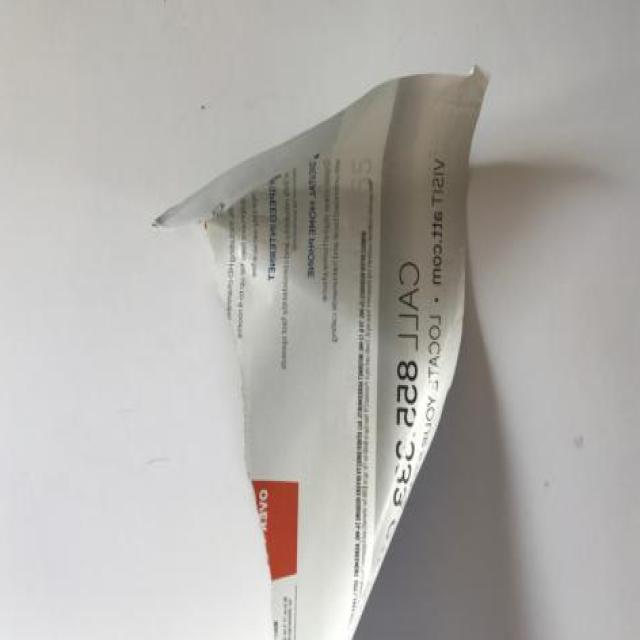kertas: (151, 62, 489, 640)
